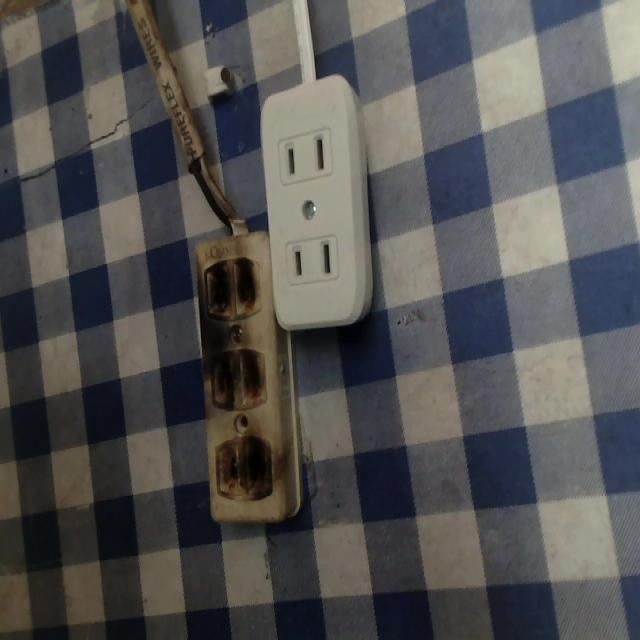-: (199, 429, 277, 504), (209, 346, 267, 418), (200, 253, 262, 320)
